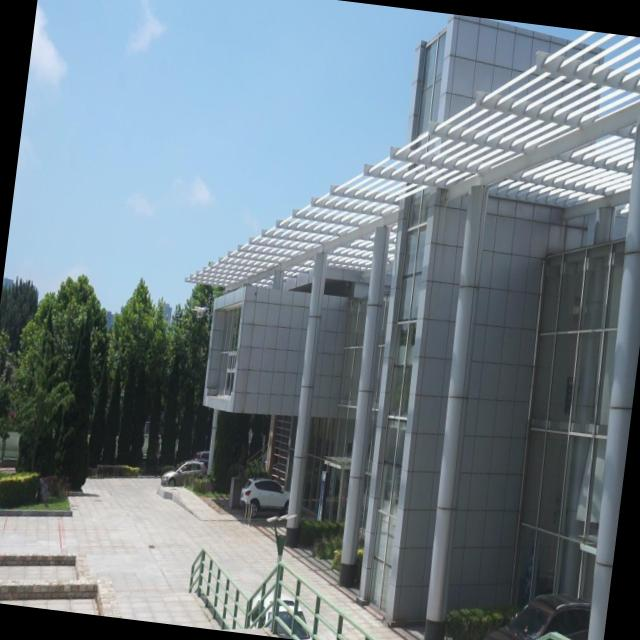drone: (191, 300, 210, 320)
